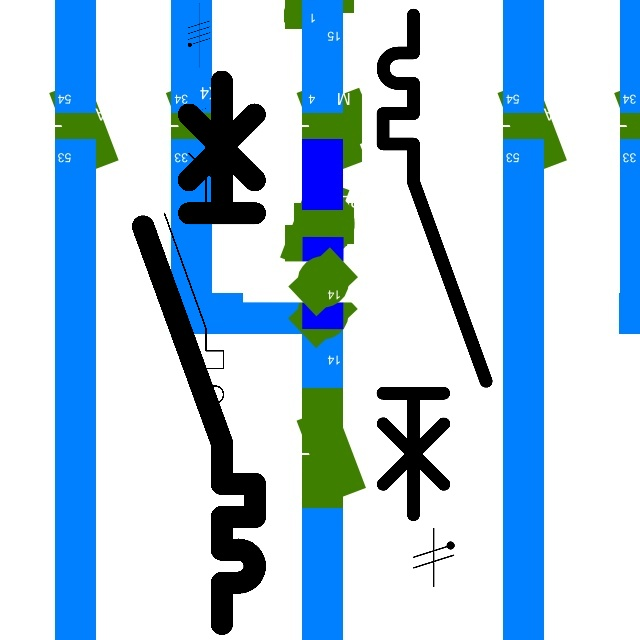interruptor_termomagnetico: (129, 67, 269, 638), (370, 2, 498, 528), (157, 128, 231, 432)
